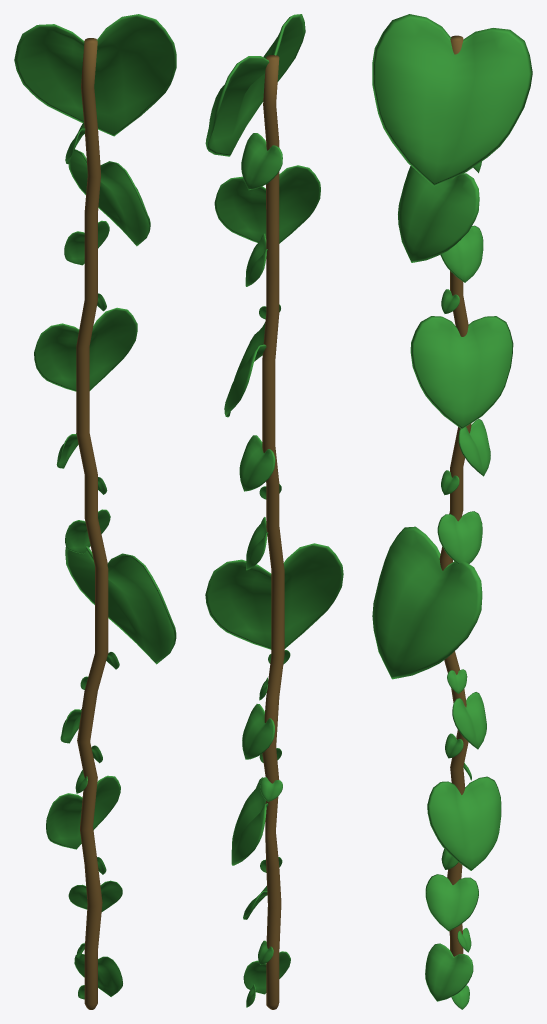
The model's file is vines without flowers 1.glb.
3 renders of one model, left to right at view 1: azimuth 90°, elevation 25°; view 2: azimuth 150°, elevation 25°; view 3: azimuth 270°, elevation 25°, orthographic.
Parts seen in each view (by area): view 1: Sample 3_Pothos Leaf 3_0.003; view 2: Sample 3_Pothos Leaf 3_0.003; view 3: Sample 3_Pothos Leaf 3_0.003.
Part boxes in pixels (<box>): Sample 3_Pothos Leaf 3_0.003: <box>14,14,176,1009</box>; Sample 3_Pothos Leaf 3_0.003: <box>205,14,343,1009</box>; Sample 3_Pothos Leaf 3_0.003: <box>372,14,532,1009</box>.
Bounding box in the file's own units: 0.8822 × 8.77 × 1.3.
